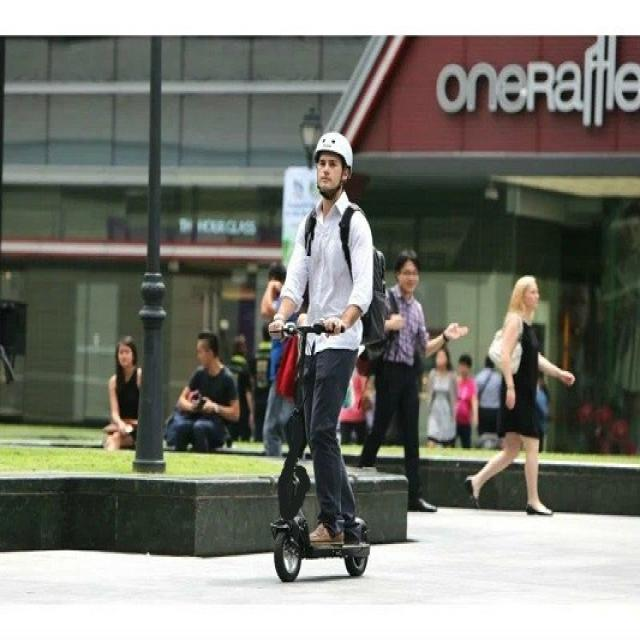helmet: (235, 88, 423, 580)
